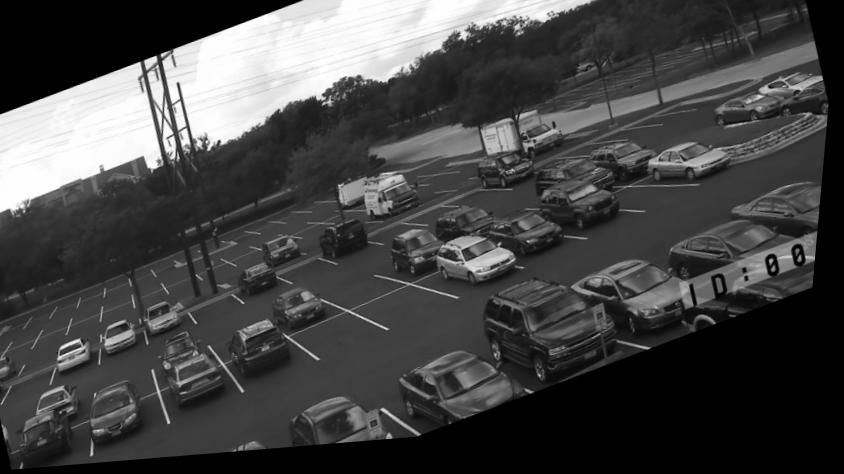empty: (369, 288, 465, 334), (297, 319, 380, 361), (618, 193, 700, 225), (328, 277, 396, 312), (194, 295, 253, 331), (9, 368, 62, 400), (104, 357, 155, 390), (217, 318, 261, 349), (409, 209, 463, 233), (286, 264, 338, 288), (376, 224, 421, 246), (454, 196, 512, 213), (628, 124, 683, 140), (107, 302, 141, 327), (167, 280, 209, 299), (31, 347, 64, 371), (202, 266, 245, 284), (41, 327, 74, 350), (75, 314, 108, 337), (4, 316, 38, 338), (193, 259, 230, 278), (139, 292, 174, 312), (9, 338, 43, 358), (504, 202, 546, 218), (299, 228, 338, 245), (138, 282, 171, 302), (77, 304, 107, 325), (223, 247, 259, 264), (564, 153, 611, 166), (412, 180, 458, 193), (132, 270, 163, 289), (601, 140, 650, 152), (109, 292, 138, 312), (166, 272, 199, 289), (233, 254, 267, 270), (17, 328, 49, 345), (283, 223, 317, 239), (155, 262, 185, 280), (111, 278, 135, 299), (251, 237, 285, 251), (305, 238, 330, 257), (329, 216, 368, 228), (49, 317, 78, 333), (73, 327, 102, 343), (311, 213, 346, 226), (225, 234, 261, 246), (86, 289, 109, 307), (61, 300, 83, 318), (37, 309, 58, 327), (256, 225, 288, 236), (229, 272, 251, 288), (281, 216, 311, 227), (304, 207, 336, 216)
occupied: (484, 286, 638, 393), (391, 353, 540, 433), (574, 270, 720, 344), (278, 388, 425, 453), (675, 234, 822, 297), (436, 241, 524, 300), (737, 193, 826, 248), (231, 323, 306, 382), (492, 217, 575, 267), (544, 189, 621, 242), (171, 352, 236, 412), (95, 381, 151, 449), (652, 154, 736, 193), (31, 411, 83, 470), (279, 292, 338, 337), (482, 156, 539, 200), (369, 180, 424, 225), (717, 103, 785, 139), (596, 152, 657, 192), (395, 238, 448, 284), (541, 168, 611, 200), (323, 224, 376, 266), (438, 214, 500, 248), (783, 96, 832, 130), (242, 267, 284, 302), (165, 337, 203, 375), (62, 339, 98, 377), (150, 306, 187, 339), (44, 386, 84, 416), (267, 242, 305, 273), (110, 323, 143, 357)
